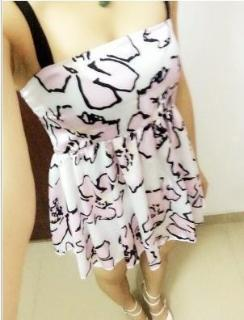sling: (14, 2, 205, 280)
